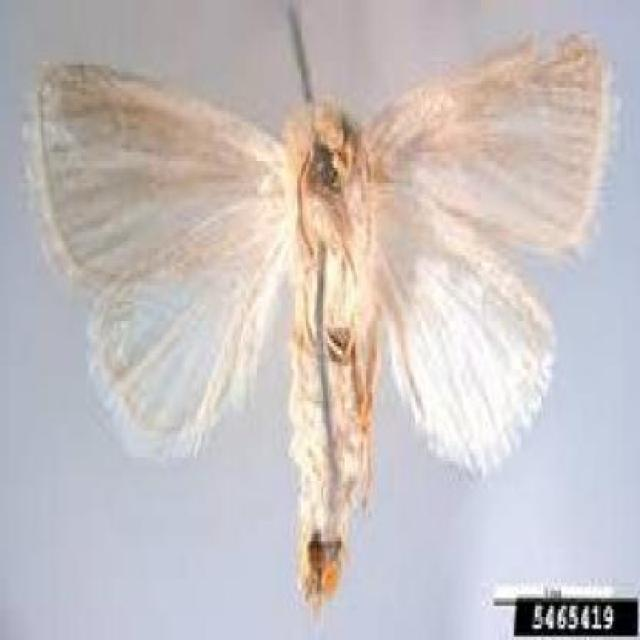stem-borer: (25, 49, 620, 573)
